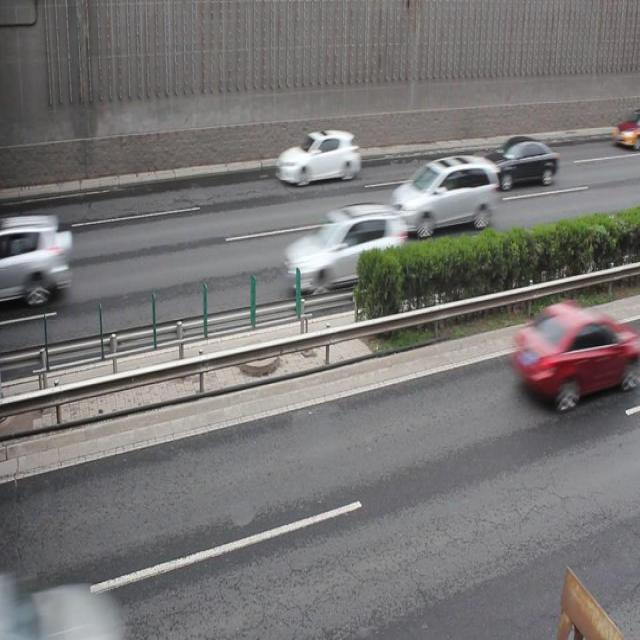car: (511, 299, 620, 410), (281, 202, 405, 298), (1, 210, 73, 310), (274, 127, 361, 185), (482, 135, 558, 189)
truck: (389, 152, 496, 235)
